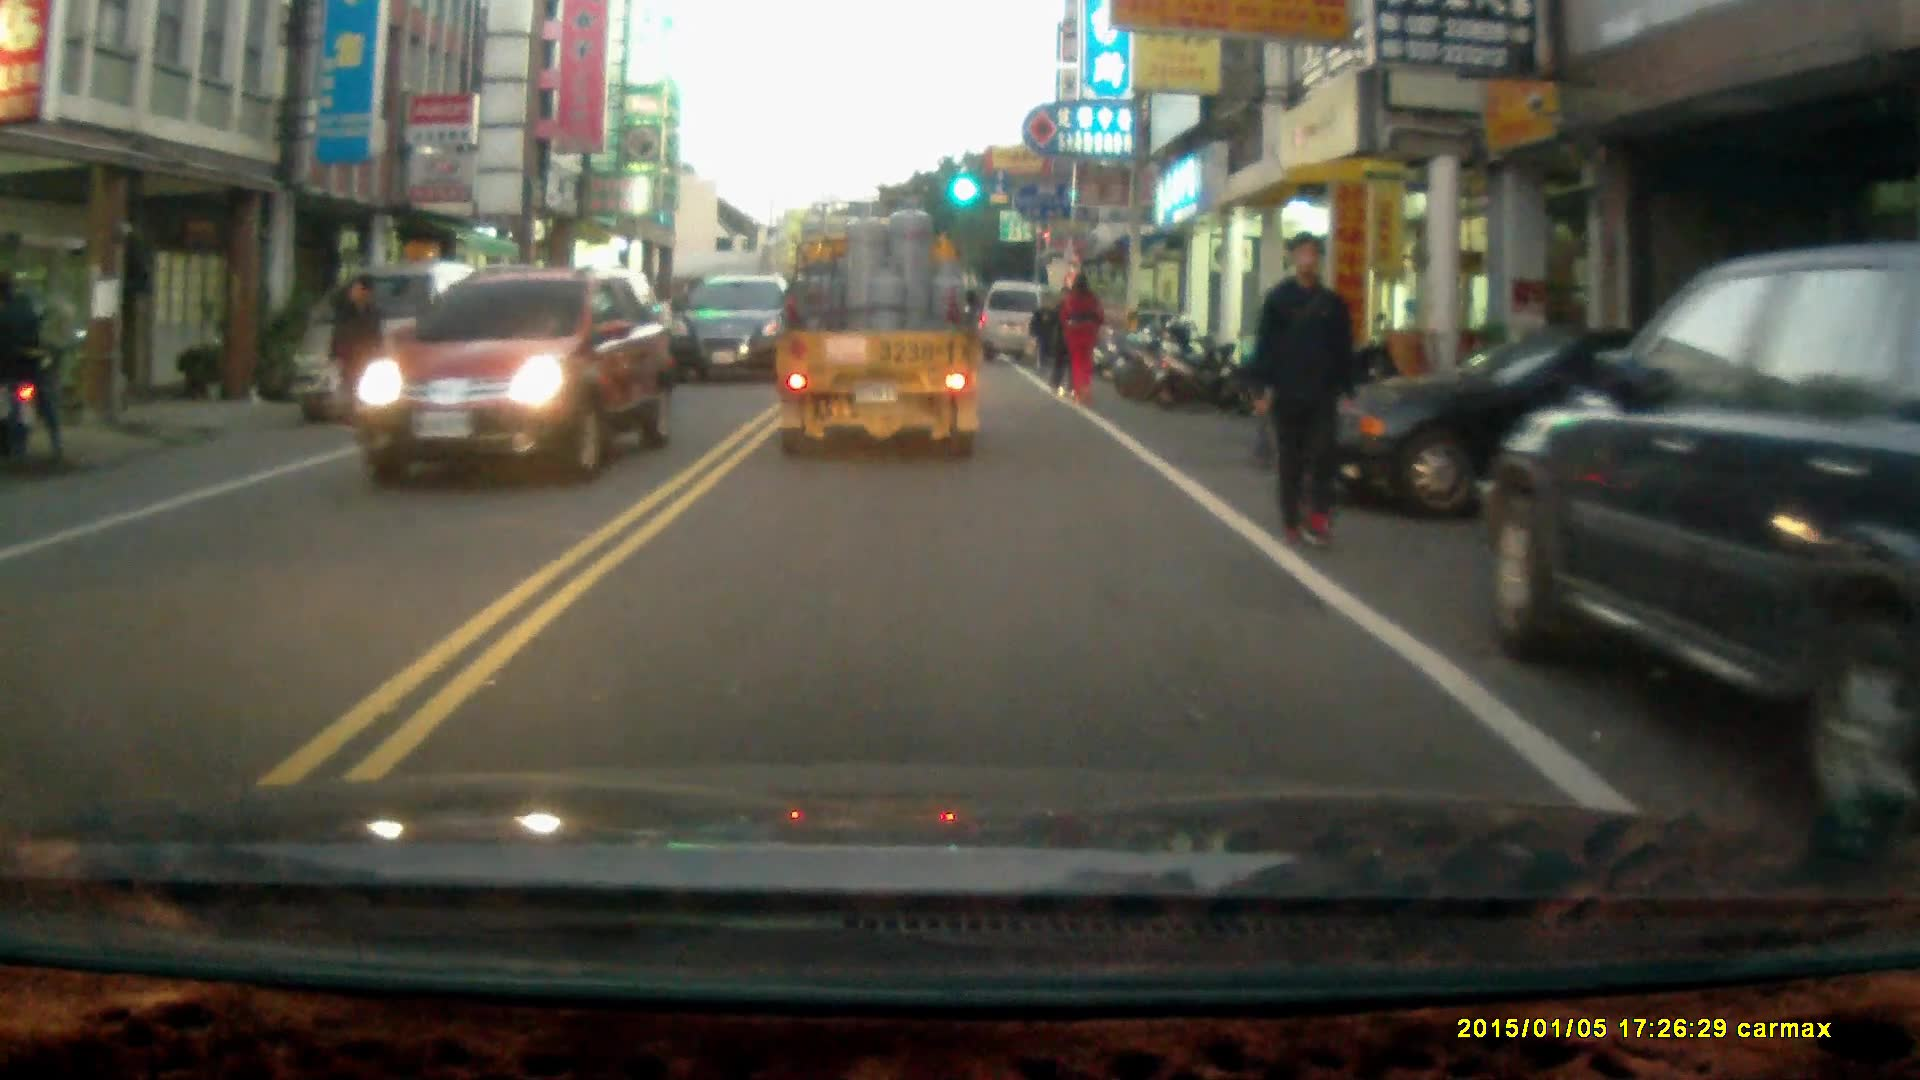pedestrian: (1253, 233, 1361, 554), (1, 269, 73, 473), (327, 270, 389, 435), (1060, 268, 1103, 406), (1034, 287, 1061, 372)
vehicle: (1478, 238, 1920, 838), (1332, 324, 1804, 517), (342, 272, 679, 488), (775, 207, 984, 478), (294, 275, 483, 432), (679, 274, 790, 389), (984, 283, 1063, 372)
